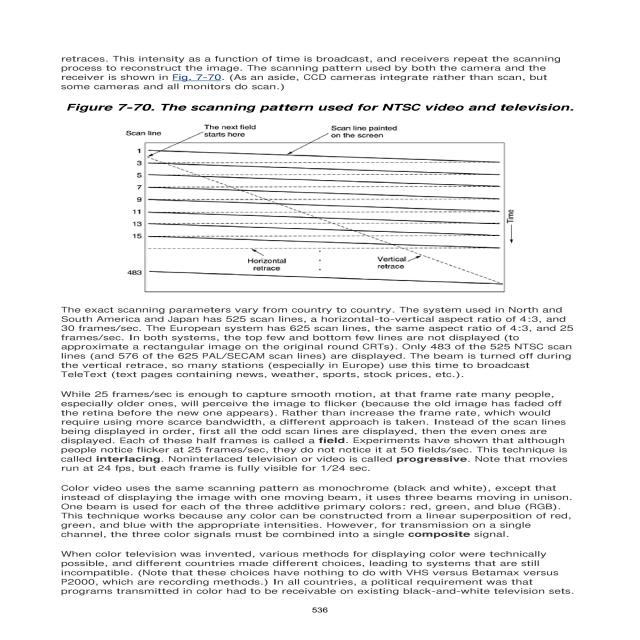diagram: (33, 84, 590, 319)
